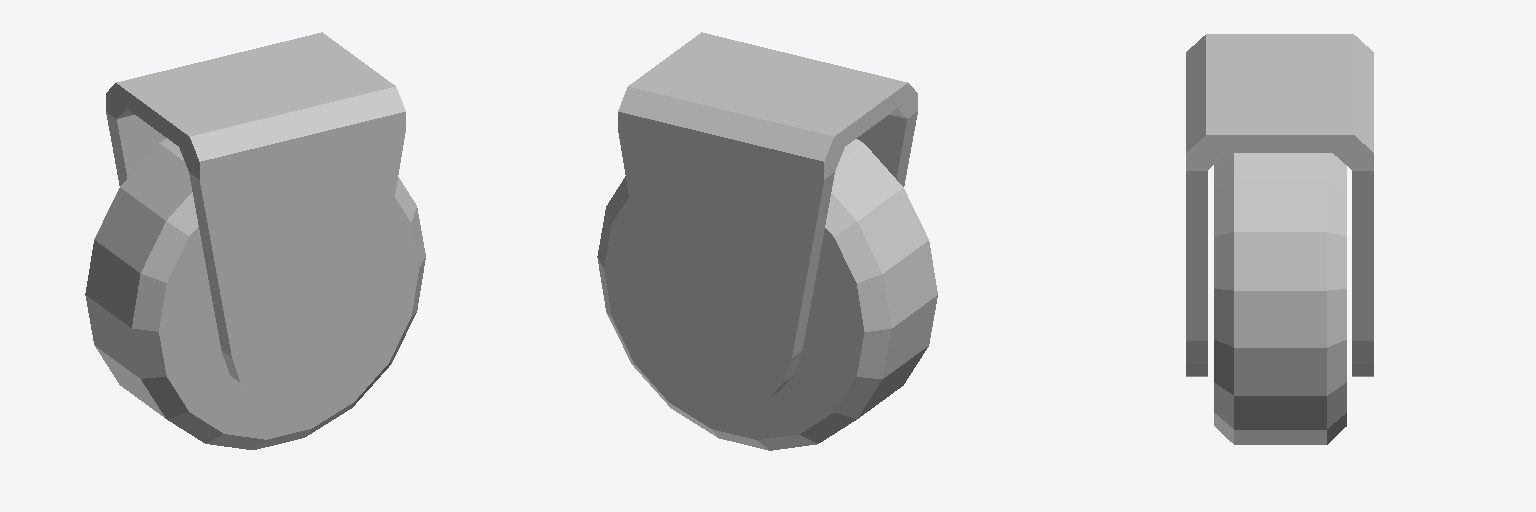
The model's file is Rueda.obj.
3 views of the same model, side by side, from view 1: azimuth 30°, elevation 25°; view 2: azimuth 150°, elevation 25°; view 3: azimuth 270°, elevation 25° (orthographic).
Visible parts, largest first — view 1: hypercasual_prop002; view 2: hypercasual_prop002; view 3: hypercasual_prop002.
Boxes of the visible parts, x1=… form: hypercasual_prop002: x1=85, y1=32, x2=425, y2=449; hypercasual_prop002: x1=597, y1=32, x2=937, y2=450; hypercasual_prop002: x1=1186, y1=34, x2=1373, y2=444.
Bounding box in the file's own units: 0.8944 × 0.9957 × 0.493.